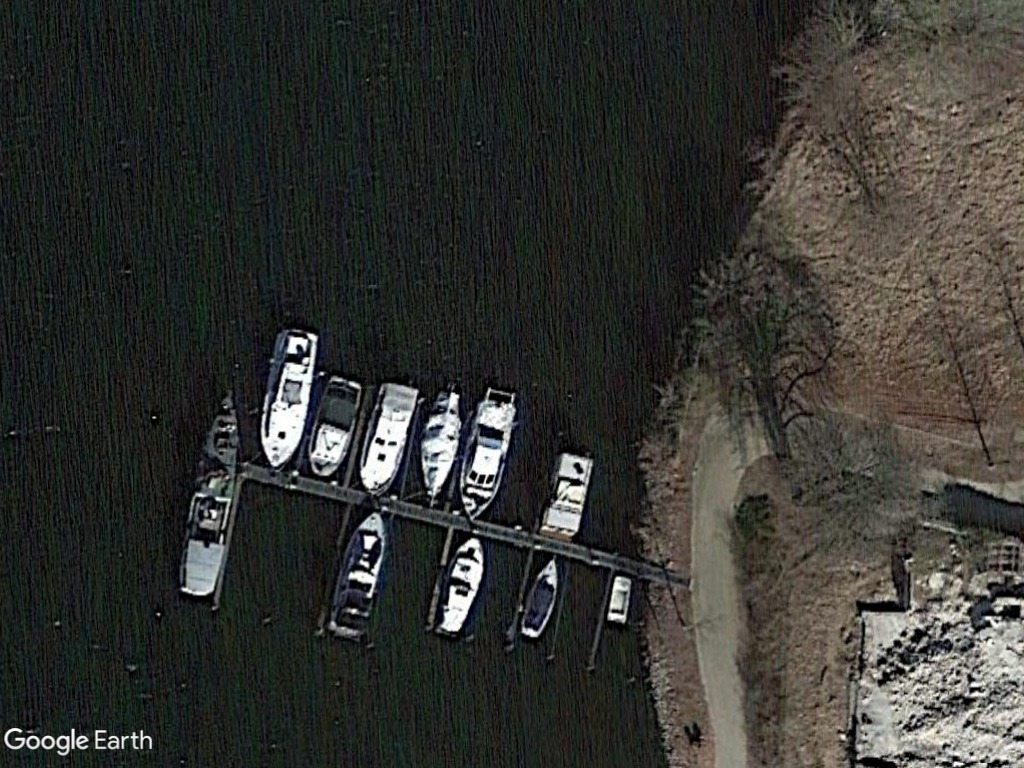boat: (168, 385, 244, 608), (252, 322, 322, 472), (451, 387, 526, 522), (318, 512, 393, 644), (355, 377, 429, 504), (412, 384, 472, 512), (427, 531, 494, 642), (303, 372, 368, 482), (515, 556, 565, 645)
